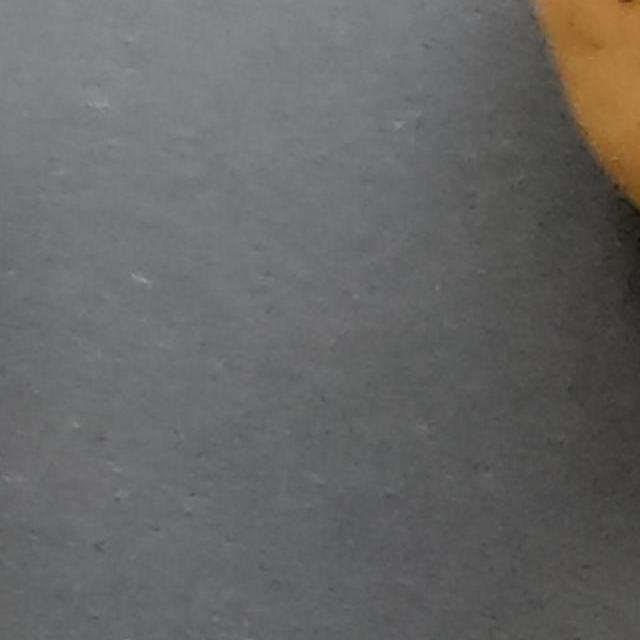potato: (366, 0, 640, 330)
